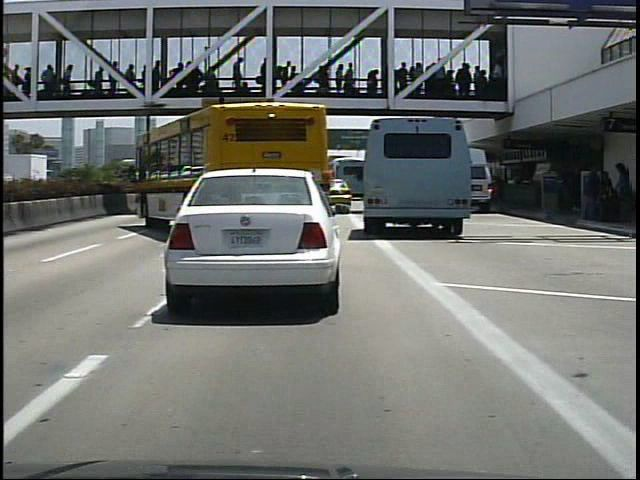person: (584, 160, 615, 221), (610, 159, 637, 225)
